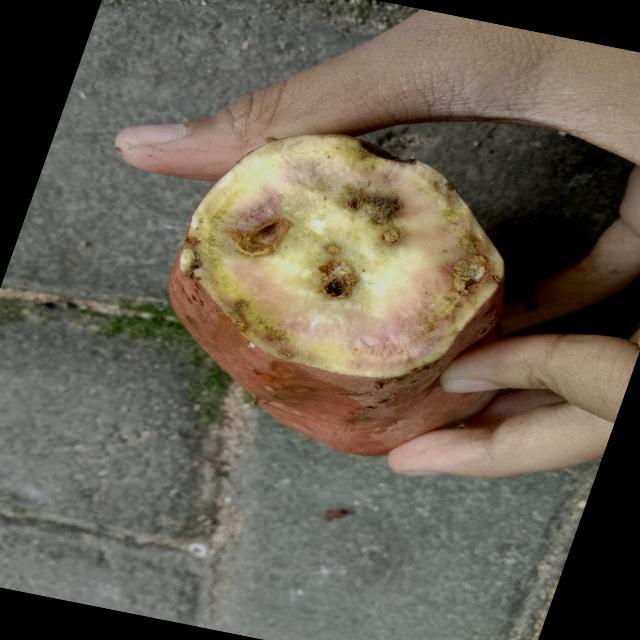Sick Sweet Potato_Tuber Rot: (182, 135, 503, 378)
